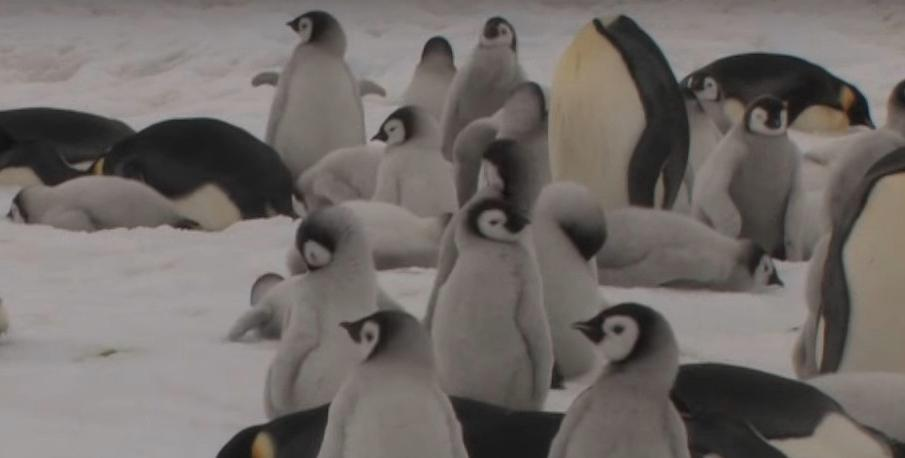Emperor Penguin: (549, 2, 691, 246), (173, 408, 785, 458), (669, 42, 889, 162), (91, 116, 331, 224), (0, 106, 145, 196), (0, 228, 23, 384)
